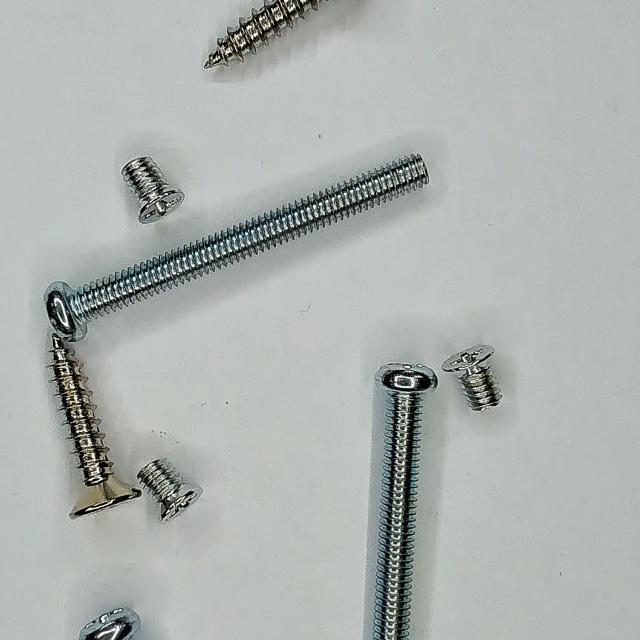Screw: (45, 155, 430, 342), (374, 364, 438, 640), (51, 335, 141, 519), (204, 0, 323, 68), (121, 156, 184, 224), (137, 459, 203, 522), (443, 345, 503, 412), (79, 609, 141, 640)
